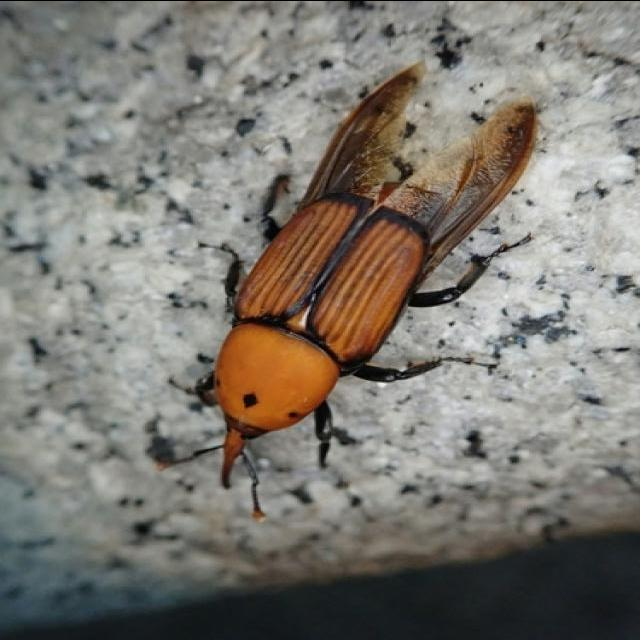Red-palm-weevil: (152, 164, 508, 516)
